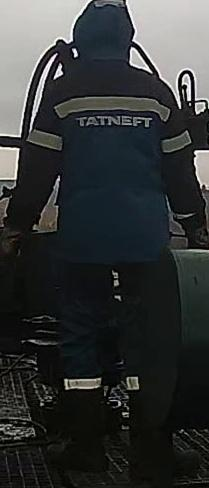gloves: (0, 216, 32, 274), (184, 219, 209, 253)
vest: (38, 63, 190, 268)
